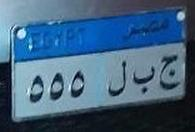5: (46, 71, 68, 101), (69, 69, 86, 97), (28, 75, 44, 102)
baa: (132, 64, 154, 93)
jeem: (155, 49, 183, 94)
laam: (108, 59, 129, 101)
